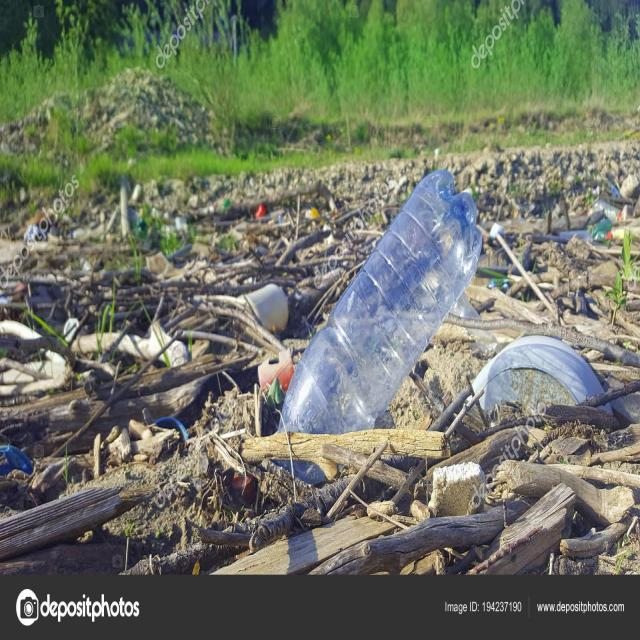bottle: (274, 160, 481, 442)
